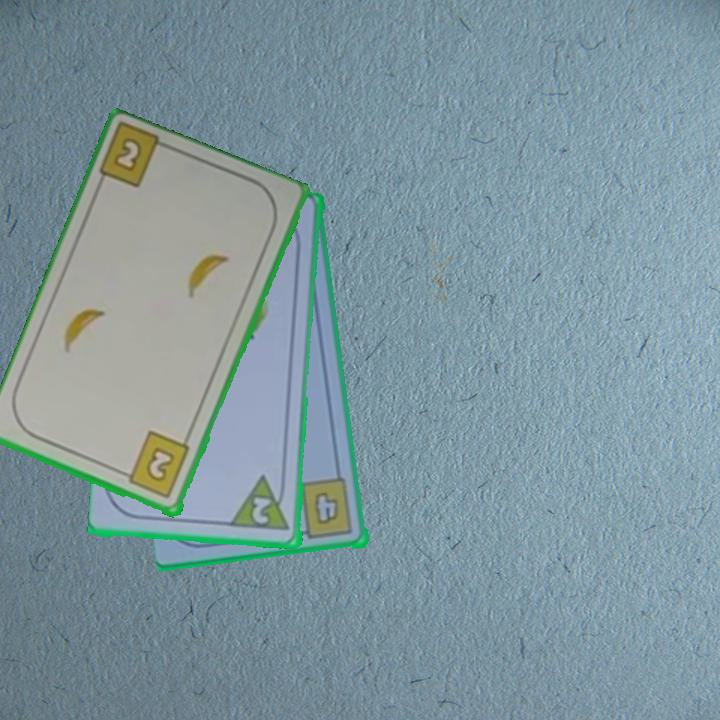2b: (117, 428, 193, 502), (110, 134, 145, 176)
2p: (229, 473, 293, 534)
4b: (294, 476, 357, 542)
